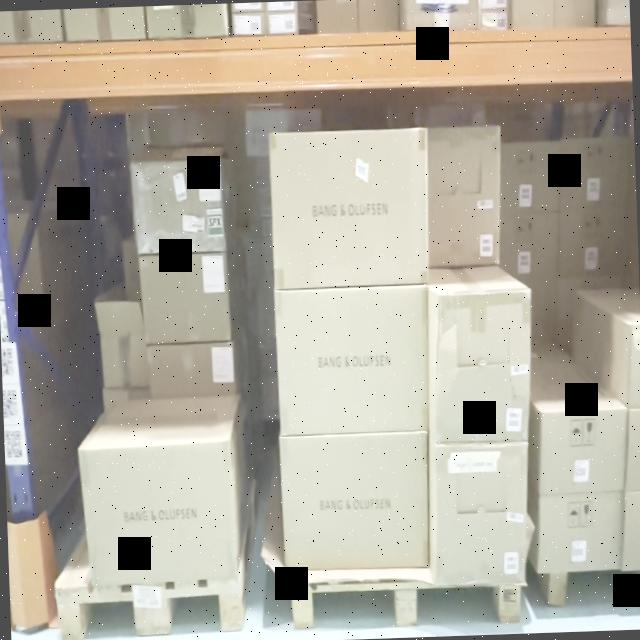box: (269, 128, 427, 288), (277, 287, 430, 434), (87, 442, 234, 584), (280, 432, 428, 572), (434, 292, 526, 442), (428, 445, 526, 579), (428, 128, 499, 264), (136, 162, 224, 252), (145, 255, 227, 342), (536, 494, 622, 571), (542, 410, 622, 490), (562, 137, 631, 205), (559, 206, 629, 271), (147, 346, 234, 394), (500, 143, 558, 211), (499, 212, 556, 280), (102, 330, 146, 382), (622, 492, 640, 570), (626, 409, 640, 490), (629, 321, 640, 409)
